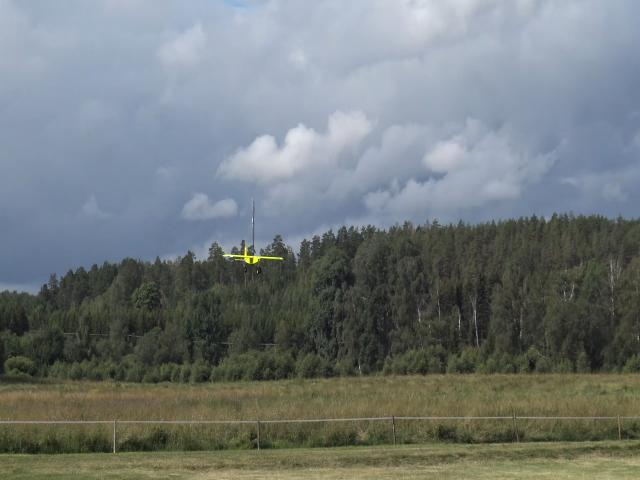plane: (222, 248, 284, 272)
